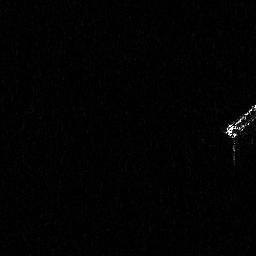ship: (224, 99, 256, 165)
